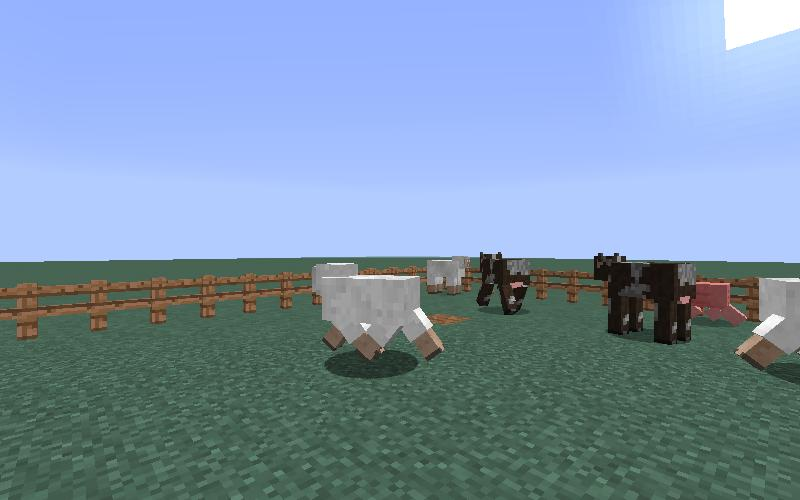cow: (586, 245, 702, 360), (473, 247, 533, 322)
sheep: (305, 260, 444, 374), (424, 253, 473, 300)
